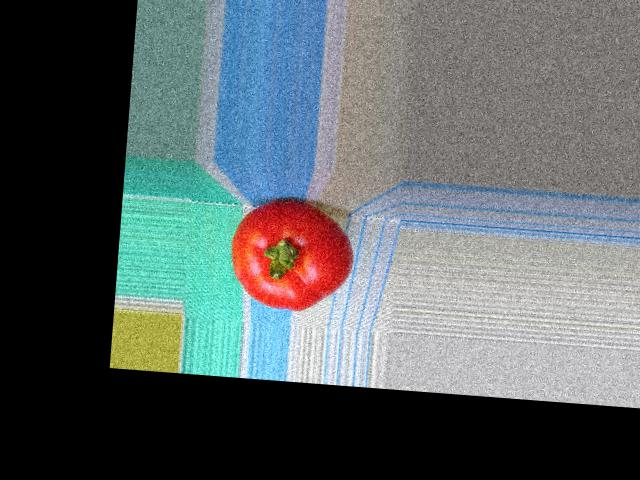tomato: (226, 194, 356, 314)
